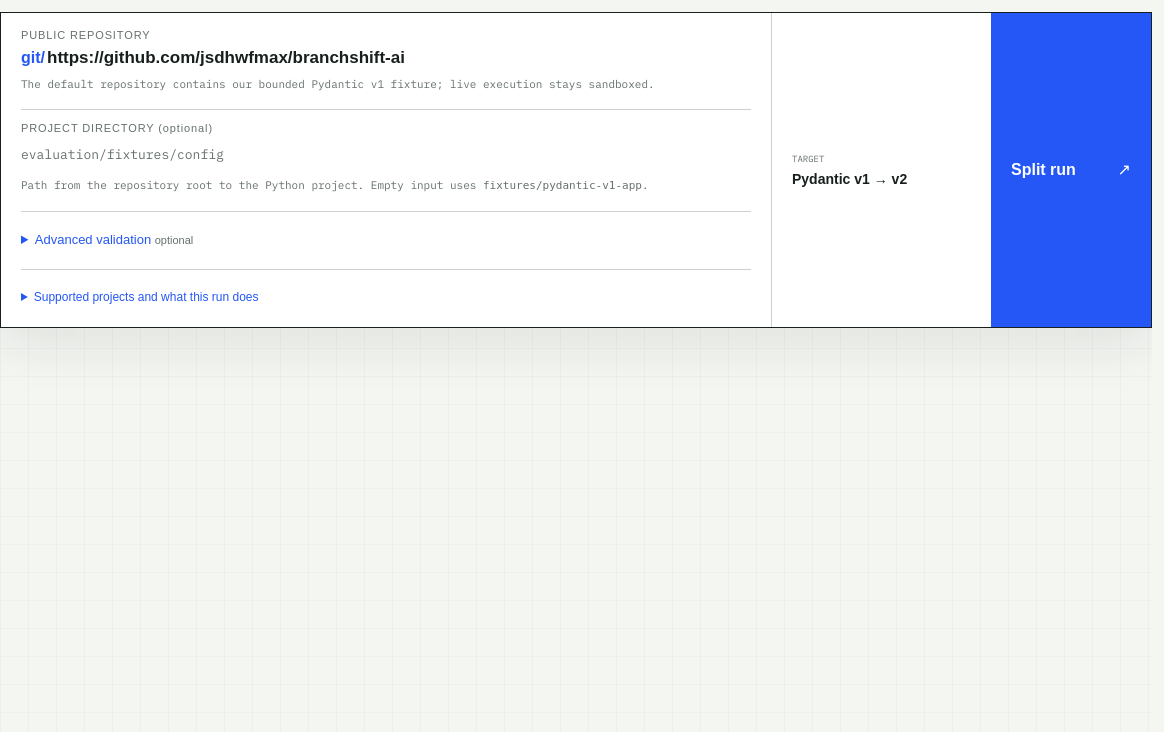
rejects non-relative or traversing project directories (../config)
The width and height of the screenshot is (1164, 732).
Type "../config" into the field labelled "Project directory (optional)".
click(386, 155); type("../config")  # box top-left (21, 140), bottom-right (751, 170)
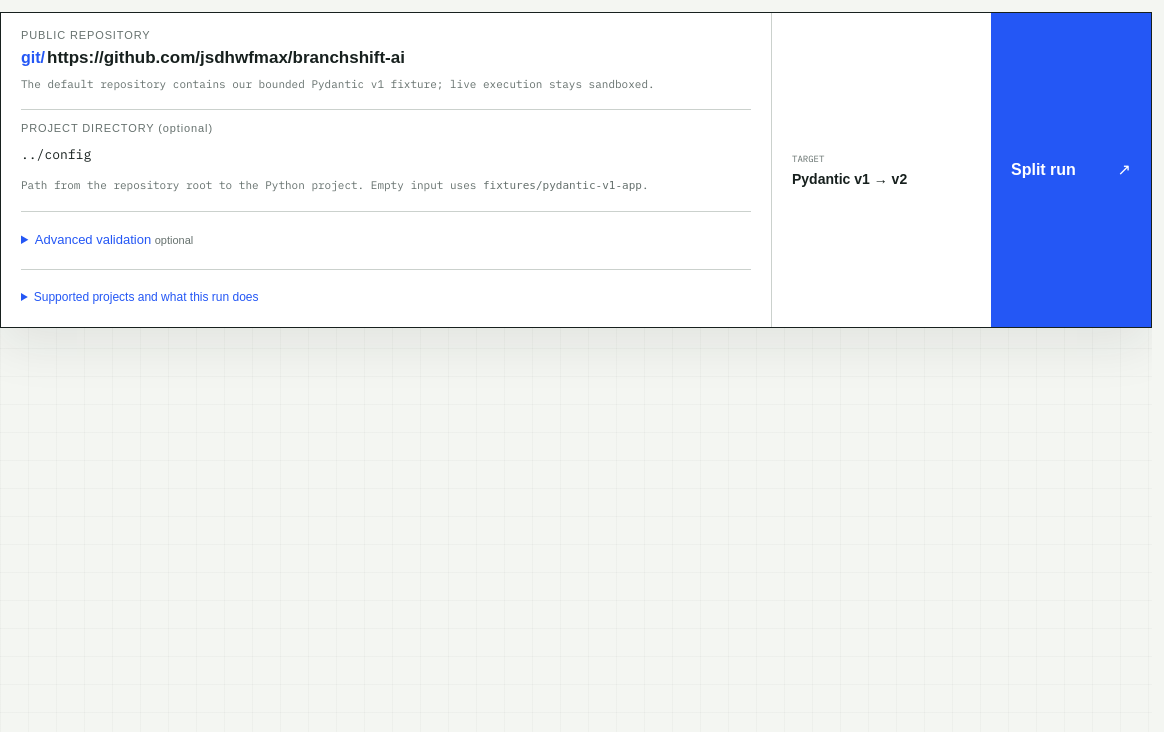
Click the button "Split run ↗".
click(1071, 170)  # box top-left (991, 13), bottom-right (1151, 327)
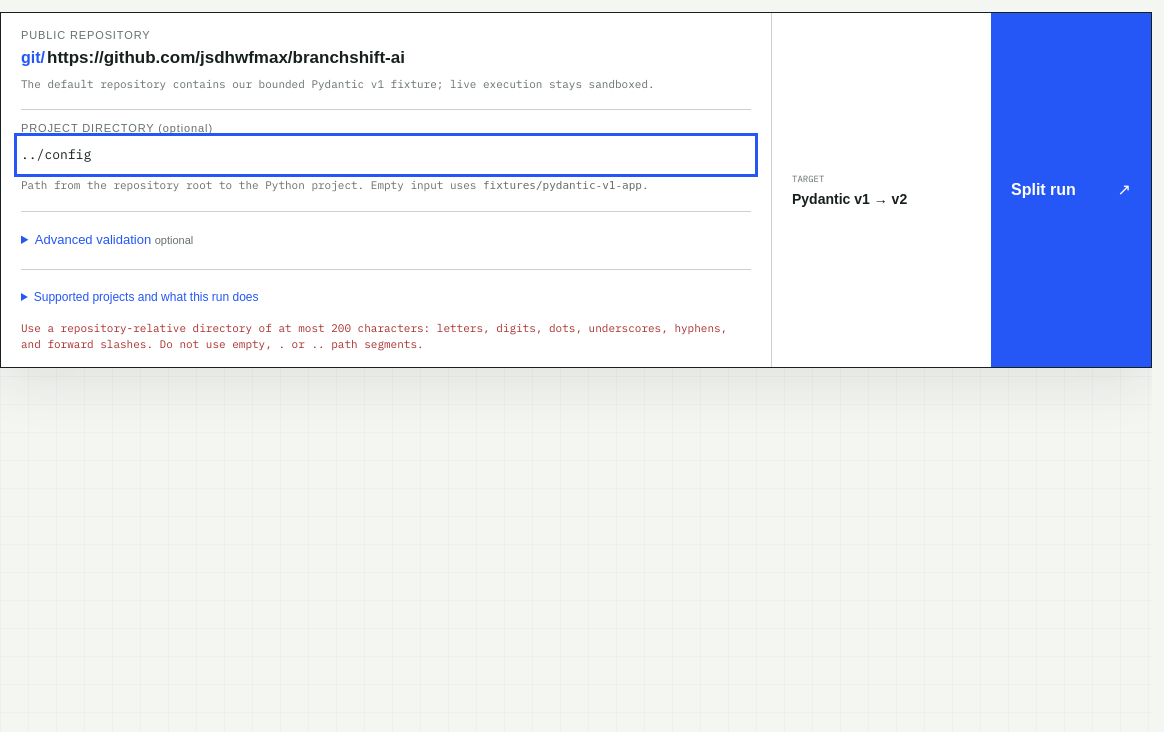
Check: the message shows "repository-relative directory", box top-left (21, 321), bottom-right (727, 352)
